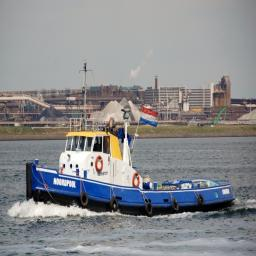tugboat: (26, 102, 239, 222)
